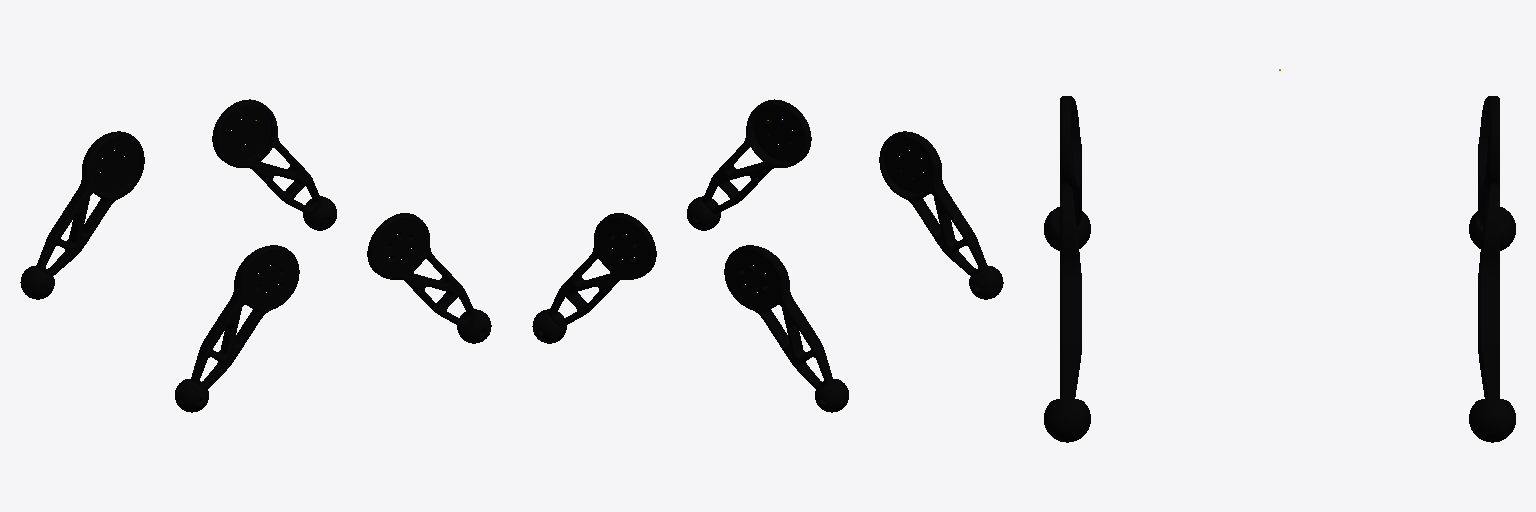
--- Facts derived from the render (not from the file) ---
Views: 3 orthographic renders of the robot side by side, from view 1: azimuth 30°, elevation 25°; view 2: azimuth 150°, elevation 25°; view 3: azimuth 270°, elevation 25°.
Robot: reddog — 19 links, 18 joints (12 revolute, 6 fixed); root link base; default pose: all joints at 0 but 8 set to mid-range because 0 is outside their limits (FR_thigh_joint = 0.835, FR_calf_joint = -1.51, FL_thigh_joint = 0.835, FL_calf_joint = -1.51, RR_thigh_joint = -0.835, RR_calf_joint = 1.51, +2 more).
Links seen in each view (by area): view 1: RL_calf, RR_calf, FL_calf, FR_calf, RL_foot, RR_foot, FL_foot, FR_foot; view 2: RR_calf, RL_calf, FR_calf, FL_calf, RR_foot, RL_foot, FL_foot, FR_foot; view 3: FR_calf, FL_calf, RL_calf, RR_calf, FR_foot, FL_foot, RL_foot, RR_foot.
Boxes of the visible links, x1=… form: RL_calf: x1=36, y1=131, x2=144, y2=276; RR_calf: x1=191, y1=245, x2=299, y2=389; FL_calf: x1=212, y1=99, x2=321, y2=214; FR_calf: x1=367, y1=213, x2=475, y2=327; RL_foot: x1=20, y1=266, x2=54, y2=299; RR_foot: x1=175, y1=379, x2=208, y2=412; FL_foot: x1=303, y1=196, x2=336, y2=230; FR_foot: x1=457, y1=309, x2=491, y2=343; RR_calf: x1=879, y1=131, x2=987, y2=276; RL_calf: x1=724, y1=245, x2=832, y2=389; FR_calf: x1=702, y1=99, x2=811, y2=214; FL_calf: x1=548, y1=213, x2=656, y2=327; RR_foot: x1=969, y1=266, x2=1003, y2=299; RL_foot: x1=815, y1=379, x2=848, y2=412; FL_foot: x1=532, y1=309, x2=566, y2=343; FR_foot: x1=687, y1=196, x2=720, y2=230; FR_calf: x1=1060, y1=183, x2=1081, y2=398; FL_calf: x1=1478, y1=183, x2=1499, y2=398; RL_calf: x1=1478, y1=96, x2=1499, y2=225; RR_calf: x1=1060, y1=96, x2=1081, y2=225; FR_foot: x1=1044, y1=398, x2=1090, y2=442; FL_foot: x1=1469, y1=398, x2=1515, y2=442; RL_foot: x1=1469, y1=207, x2=1515, y2=250; RR_foot: x1=1044, y1=207, x2=1090, y2=250.
Size in the robot's own frame: 0.335 by 0.3177 by 0.2051 metres.
8 mesh visuals loaded from 17 distinct referenced files (8 binary STL); not drawn: 9 (reference not matched to a file when rendering).

robot.urdf — reddog:
<?xml version="1.0" encoding="utf-8"?>
<!-- This URDF was automatically created by SolidWorks to URDF Exporter! Originally created by Stephen Brawner ([email redacted]) 
     Commit Version: 1.6.0-4-g7f85cfe  Build Version: 1.6.7995.38578
     For more information, please see http://wiki.ros.org/sw_urdf_exporter -->
<robot
  name="reddog">
  <ros2_control name="UnitreeSystem" type="system">
    <hardware>
      <plugin>hardware_unitree_mujoco/HardwareUnitree</plugin>
    </hardware>
    <joint name="FR_hip_joint">
      <command_interface name="position"/>
      <command_interface name="velocity"/>
      <command_interface name="effort"/>
      <command_interface name="kp"/>
      <command_interface name="kd"/>
      <state_interface name="position"/>
      <state_interface name="velocity"/>
      <state_interface name="effort"/>
    </joint>
    <joint name="FR_thigh_joint">
      <command_interface name="position"/>
      <command_interface name="velocity"/>
      <command_interface name="effort"/>
      <command_interface name="kp"/>
      <command_interface name="kd"/>
      <state_interface name="position"/>
      <state_interface name="velocity"/>
      <state_interface name="effort"/>
    </joint>
    <joint name="FR_calf_joint">
      <command_interface name="position"/>
      <command_interface name="velocity"/>
      <command_interface name="effort"/>
      <command_interface name="kp"/>
      <command_interface name="kd"/>
      <state_interface name="position"/>
      <state_interface name="velocity"/>
      <state_interface name="effort"/>
    </joint>
    <joint name="FL_hip_joint">
      <command_interface name="position"/>
      <command_interface name="velocity"/>
      <command_interface name="effort"/>
      <command_interface name="kp"/>
      <command_interface name="kd"/>
      <state_interface name="position"/>
      <state_interface name="velocity"/>
      <state_interface name="effort"/>
    </joint>
    <joint name="FL_thigh_joint">
      <command_interface name="position"/>
      <command_interface name="velocity"/>
      <command_interface name="effort"/>
      <command_interface name="kp"/>
      <command_interface name="kd"/>
      <state_interface name="position"/>
      <state_interface name="velocity"/>
      <state_interface name="effort"/>
    </joint>
    <joint name="FL_calf_joint">
      <command_interface name="position"/>
      <command_interface name="velocity"/>
      <command_interface name="effort"/>
      <command_interface name="kp"/>
      <command_interface name="kd"/>
      <state_interface name="position"/>
      <state_interface name="velocity"/>
      <state_interface name="effort"/>
    </joint>
    <joint name="RR_hip_joint">
      <command_interface name="position"/>
      <command_interface name="velocity"/>
      <command_interface name="effort"/>
      <command_interface name="kp"/>
      <command_interface name="kd"/>
      <state_interface name="position"/>
      <state_interface name="velocity"/>
      <state_interface name="effort"/>
    </joint>
    <joint name="RR_thigh_joint">
      <command_interface name="position"/>
      <command_interface name="velocity"/>
      <command_interface name="effort"/>
      <command_interface name="kp"/>
      <command_interface name="kd"/>
      <state_interface name="position"/>
      <state_interface name="velocity"/>
      <state_interface name="effort"/>
    </joint>
    <joint name="RR_calf_joint">
      <command_interface name="position"/>
      <command_interface name="velocity"/>
      <command_interface name="effort"/>
      <command_interface name="kp"/>
      <command_interface name="kd"/>
      <state_interface name="position"/>
      <state_interface name="velocity"/>
      <state_interface name="effort"/>
    </joint>
    <joint name="RL_hip_joint">
      <command_interface name="position"/>
      <command_interface name="velocity"/>
      <command_interface name="effort"/>
      <command_interface name="kp"/>
      <command_interface name="kd"/>
      <state_interface name="position"/>
      <state_interface name="velocity"/>
      <state_interface name="effort"/>
    </joint>
    <joint name="RL_thigh_joint">
      <command_interface name="position"/>
      <command_interface name="velocity"/>
      <command_interface name="effort"/>
      <command_interface name="kp"/>
      <command_interface name="kd"/>
      <state_interface name="position"/>
      <state_interface name="velocity"/>
      <state_interface name="effort"/>
    </joint>
    <joint name="RL_calf_joint">
      <command_interface name="position"/>
      <command_interface name="velocity"/>
      <command_interface name="effort"/>
      <command_interface name="kp"/>
      <command_interface name="kd"/>
      <state_interface name="position"/>
      <state_interface name="velocity"/>
      <state_interface name="effort"/>
    </joint>
    <sensor name="imu_sensor">
      <state_interface name="orientation.w"/>
      <state_interface name="orientation.x"/>
      <state_interface name="orientation.y"/>
      <state_interface name="orientation.z"/>
      <state_interface name="angular_velocity.x"/>
      <state_interface name="angular_velocity.y"/>
      <state_interface name="angular_velocity.z"/>
      <state_interface name="linear_acceleration.x"/>
      <state_interface name="linear_acceleration.y"/>
      <state_interface name="linear_acceleration.z"/>
    </sensor>
    <sensor name="foot_force">
      <state_interface name="FR"/>
      <state_interface name="FL"/>
      <state_interface name="RR"/>
      <state_interface name="RL"/>
    </sensor>
  </ros2_control>
  <link name="base">
    <visual>
      <origin rpy="0 0 0" xyz="0 0 0"/>
      <geometry>
        <box size="0.001 0.001 0.001"/>
      </geometry>
    </visual>
  </link>
  <joint name="floating_base" type="fixed">
    <origin rpy="0 0 0" xyz="0 0 0"/>
    <parent link="base"/>
    <child link="trunk"/>
  </joint>
  <link
    name="trunk">
    <inertial>
      <origin
        xyz="-0.000178 -0.000021 0.003449"
        rpy="0 0 0" />
      <mass
        value="2.190280" />
      <inertia
        ixx="0.006223"
        ixy="-0.000002"
        ixz="-0.000008"
        iyy="0.019491"
        iyz="-0.000002"
        izz="0.023871" />
    </inertial>
    <visual>
      <origin
        xyz="0 0 0"
        rpy="0 0 0" />
      <geometry>
        <mesh
          filename="package://reddog_description/meshes/base.STL" />
      </geometry>
      <material
        name="">
        <color
          rgba="1 0.02 0.02 0.8" />
      </material>
    </visual>
    <collision>
      <origin
        xyz="0 0 0"
        rpy="0 0 0" />
      <geometry>
        <mesh
          filename="package://reddog_description/meshes/base.STL" />
      </geometry>
    </collision>
  </link>
  <joint name="imu_joint" type="fixed">
    <parent link="trunk"/>
    <child link="imu_link"/>
    <origin rpy="0 0 0" xyz="0 0 0"/>
  </joint>
  <link name="imu_link">
    <inertial>
      <mass value="0.001"/>
      <origin rpy="0 0 0" xyz="0 0 0"/>
      <inertia ixx="0.0001" ixy="0" ixz="0" iyy="0.0001" iyz="0" izz="0.0001"/>
    </inertial>
    <visual>
      <origin rpy="0 0 0" xyz="0 0 0"/>
      <geometry>
        <box size="0.001 0.001 0.001"/>
      </geometry>
      <!-- <material name="red"/> -->
    </visual>
    <collision>
      <origin rpy="0 0 0" xyz="0 0 0"/>
      <geometry>
        <box size=".001 .001 .001"/>
      </geometry>
    </collision>
  </link>
  <link
    name="FR_hip">
    <inertial>
      <origin
        xyz="0.037499 -0.013932 -0.000001"
        rpy="0 0 0" />
      <mass
        value="0.324730" />
      <inertia
        ixx="0.000123"
        ixy="-0.000005"
        ixz="0.000000"
        iyy="0.000140"
        iyz="0.000000"
        izz="0.000130" />
    </inertial>
    <visual>
      <origin
        xyz="0 0 0"
        rpy="0 0 0" />
      <geometry>
        <mesh
          filename="package://reddog_description/meshes/FR_hip.STL" />
      </geometry>
      <material
        name="">
        <color
          rgba="0.05 0.05 0.05 1" />
      </material>
    </visual>
    <!-- <collision>
      <origin
        xyz="0 0 0"
        rpy="0 0 0" />
      <geometry>
        <mesh
          filename="package://reddog_description/meshes/FR_hip.STL" />
      </geometry>
    </collision> -->
  </link>
  <joint
    name="FR_hip_joint"
    type="revolute">
    <origin
      xyz="0.127999974999998 -0.055 0"
      rpy="0 0 0" />
    <parent
      link="base" />
    <child
      link="FR_hip" />
    <axis
      xyz="1 0 0" />
    <limit
      lower="-1.0472"
      upper="1.0472"
      effort="3.0"
      velocity="12.5" />
  </joint>
  <link
    name="FR_thigh">
    <inertial>
      <origin
        xyz="-0.000082 -0.027481 -0.125699"
        rpy="0 0 0" />
      <mass
        value="0.324730" />
      <inertia
        ixx="0.000254"
        ixy="-0.000001"
        ixz="0.000000"
        iyy="0.000267"
        iyz="0.000028"
        izz="0.000122" />
    </inertial>
    <visual>
      <origin
        xyz="0 0 0"
        rpy="0 0 0" />
      <geometry>
        <mesh
          filename="package://reddog_description/meshes/FR_thigh.STL" />
      </geometry>
      <material
        name="">
        <color
          rgba="0.05 0.05 0.05 1" />
      </material>
    </visual>
    <collision>
      <origin
        xyz="0 0 0"
        rpy="0 0 0" />
      <geometry>
        <mesh
          filename="package://reddog_description/meshes/FR_thigh.STL" />
      </geometry>
    </collision>
  </link>
  <joint
    name="FR_thigh_joint"
    type="revolute">
    <origin
      xyz="0.0385000250000002 -0.0374999999999999 0"
      rpy="0 0 0" />
    <parent
      link="FR_hip" />
    <child
      link="FR_thigh" />
    <axis
      xyz="0 1 0" />
    <limit
      lower="0.1"
      upper="1.57"
      effort="3.0"
      velocity="12.5" />
  </joint>
  <link
    name="FR_calf">
    <inertial>
      <origin
        xyz="-0.000098 -0.009599 -0.041140"
        rpy="0 0 0" />
      <mass
        value="0.037400" />
      <inertia
        ixx="0.000069"
        ixy="0.000000"
        ixz="0.000000"
        iyy="0.000076"
        iyz="-0.000002"
        izz="0.000008" />
    </inertial>
    <visual>
      <origin
        xyz="0 0 0"
        rpy="0 0 0" />
      <geometry>
        <mesh
          filename="package://reddog_description/meshes/FR_calf.STL" />
      </geometry>
      <material
        name="">
        <color
          rgba="0.05 0.05 0.05 1" />
      </material>
    </visual>
    <collision>
      <origin
        xyz="0 0 0"
        rpy="0 0 0" />
      <geometry>
        <mesh
          filename="package://reddog_description/meshes/FR_calf.STL" />
      </geometry>
    </collision>
  </link>
  <joint
    name="FR_calf_joint"
    type="revolute">
    <origin
      xyz="0 -0.0409852014855582 -0.130000000000001"
      rpy="0 0 0" />
    <parent
      link="FR_thigh" />
    <child
      link="FR_calf" />
    <axis
      xyz="0 1 0" />
    <limit
      lower="-2.7227"
      upper="-0.3"
      effort="3.0"
      velocity="12.5" />
  </joint>
  <link
    name="FR_foot">
    <inertial>
      <origin
        xyz="-0.000010 -0.009809 -0.001455"
        rpy="0 0 0" />
      <mass
        value="0.010190" />
      <inertia
        ixx="0.000001"
        ixy="0.000000"
        ixz="0.000000"
        iyy="0.000001"
        iyz="0.000000"
        izz="0.000001" />
    </inertial>
    <visual>
      <origin
        xyz="0 0 0"
        rpy="0 0 0" />
      <geometry>
        <mesh
          filename="package://reddog_description/meshes/FR_foot.STL" />
      </geometry>
      <material
        name="">
        <color
          rgba="0.05 0.05 0.05 1" />
      </material>
    </visual>
    <collision>
      <origin
        xyz="0 0 0"
        rpy="0 0 0" />
      <geometry>
        <mesh
          filename="package://reddog_description/meshes/FR_foot.STL" />
      </geometry>
    </collision>
  </link>
  <joint
    name="FR_foot_joint"
    type="fixed" dont_collapse="true">
    <origin
      xyz="0 0 -0.13"
      rpy="0 0 0" />
    <parent
      link="FR_calf" />
    <child
      link="FR_foot" />
    <axis
      xyz="0 1 0" />
  </joint>
  <transmission name="FR_hip_tran">
    <type>transmission_interface/SimpleTransmission</type>
    <joint name="FR_hip_joint">
      <hardwareInterface>hardware_interface/EffortJointInterface</hardwareInterface>
    </joint>
    <actuator name="FR_hip_motor">
      <hardwareInterface>hardware_interface/EffortJointInterface</hardwareInterface>
      <mechanicalReduction>1</mechanicalReduction>
    </actuator>
  </transmission>
  <transmission name="FR_thigh_tran">
    <type>transmission_interface/SimpleTransmission</type>
    <joint name="FR_thigh_joint">
      <hardwareInterface>hardware_interface/EffortJointInterface</hardwareInterface>
    </joint>
    <actuator name="FR_thigh_motor">
      <hardwareInterface>hardware_interface/EffortJointInterface</hardwareInterface>
      <mechanicalReduction>1</mechanicalReduction>
    </actuator>
  </transmission>
  <transmission name="FR_calf_tran">
    <type>transmission_interface/SimpleTransmission</type>
    <joint name="FR_calf_joint">
      <hardwareInterface>hardware_interface/EffortJointInterface</hardwareInterface>
    </joint>
    <actuator name="FR_calf_motor">
      <hardwareInterface>hardware_interface/EffortJointInterface</hardwareInterface>
      <mechanicalReduction>1</mechanicalReduction>
    </actuator>
  </transmission>
  <link
    name="FL_hip">
    <inertial>
      <origin
        xyz="0.037499 0.013932 -0.000001"
        rpy="0 0 0" />
      <mass
        value="0.324730" />
      <inertia
        ixx="0.000123"
        ixy="0.000005"
        ixz="0.000000"
        iyy="0.000140"
        iyz="0.000000"
        izz="0.000130" />
    </inertial>
    <visual>
      <origin
        xyz="0 0 0"
        rpy="0 0 0" />
      <geometry>
        <mesh
          filename="package://reddog_description/meshes/FL_hip.STL" />
      </geometry>
      <material
        name="">
        <color
          rgba="0.05 0.05 0.05 1" />
      </material>
    </visual>
    <!-- <collision>
      <origin
        xyz="0 0 0"
        rpy="0 0 0" />
      <geometry>
        <mesh
          filename="package://reddog_description/meshes/FL_hip.STL" />
      </geometry>
    </collision> -->
  </link>
  <joint
    name="FL_hip_joint"
    type="revolute">
    <origin
      xyz="0.127999974999998 0.055 0"
      rpy="0 0 0" />
    <parent
      link="base" />
    <child
      link="FL_hip" />
    <axis
      xyz="1 0 0" />
    <limit
      lower="-1.0472"
      upper="1.0472"
      effort="3.0"
      velocity="12.5" />
  </joint>
  <link
    name="FL_thigh">
    <inertial>
      <origin
        xyz="-0.000085 0.025358 -0.120119"
        rpy="0 0 0" />
      <mass
        value="0.361700" />
      <inertia
        ixx="0.000463"
        ixy="0.000001"
        ixz="0.000001"
        iyy="0.000469"
        iyz="-0.000065"
        izz="0.000146" />
    </inertial>
    <visual>
      <origin
        xyz="0 0 0"
        rpy="0 0 0" />
      <geometry>
        <mesh
          filename="package://reddog_description/meshes/FL_thigh.STL" />
      </geometry>
      <material
        name="">
        <color
          rgba="0.05 0.05 0.05 1" />
      </material>
    </visual>
    <collision>
      <origin
        xyz="0 0 0"
        rpy="0 0 0" />
      <geometry>
        <mesh
          filename="package://reddog_description/meshes/FL_thigh.STL" />
      </geometry>
    </collision>
  </link>
  <joint
    name="FL_thigh_joint"
    type="revolute">
    <origin
      xyz="0.038500025 0.0375 0"
      rpy="0 0 0" />
    <parent
      link="FL_hip" />
    <child
      link="FL_thigh" />
    <axis
      xyz="0 1 0" />
    <limit
      lower="0.1"
      upper="1.57"
      effort="3.0"
      velocity="12.5" />
  </joint>
  <link
    name="FL_calf">
    <inertial>
      <origin
        xyz="-0.000098 0.009600 -0.041141"
        rpy="0 0 0" />
      <mass
        value="0.037040" />
      <inertia
        ixx="0.000068"
        ixy="0.000000"
        ixz="0.000000"
        iyy="0.000076"
        iyz="0.000002"
        izz="0.000008" />
    </inertial>
    <visual>
      <origin
        xyz="0 0 0"
        rpy="0 0 0" />
      <geometry>
        <mesh
          filename="package://reddog_description/meshes/FL_calf.STL" />
      </geometry>
      <material
        name="">
        <color
          rgba="0.05 0.05 0.05 1" />
      </material>
    </visual>
    <collision>
      <origin
        xyz="0 0 0"
        rpy="0 0 0" />
      <geometry>
        <mesh
          filename="package://reddog_description/meshes/FL_calf.STL" />
      </geometry>
    </collision>
  </link>
  <joint
    name="FL_calf_joint"
    type="revolute">
    <origin
      xyz="0 0.0409852014855581 -0.130000000000001"
      rpy="0 0 0" />
    <parent
      link="FL_thigh" />
    <child
      link="FL_calf" />
    <axis
      xyz="0 1 0" />
    <limit
      lower="-2.7227"
      upper="-0.3"
      effort="3.0"
      velocity="12.5" />
  </joint>
  <link
    name="FL_foot">
    <inertial>
      <origin
        xyz="-0.000010 0.009809 -0.001455"
        rpy="0 0 0" />
      <mass
        value="0.010190" />
      <inertia
        ixx="0.000001"
        ixy="0.000000"
        ixz="0.000000"
        iyy="0.000001"
        iyz="0.000000"
        izz="0.000001" />
    </inertial>
    <visual>
      <origin
        xyz="0 0 0"
        rpy="0 0 0" />
      <geometry>
        <mesh
          filename="package://reddog_description/meshes/FL_foot.STL" />
      </geometry>
      <material
        name="">
        <color
          rgba="0.05 0.05 0.05 1" />
      </material>
    </visual>
    <collision>
      <origin
        xyz="0 0 0"
        rpy="0 0 0" />
      <geometry>
        <mesh
          filename="package://reddog_description/meshes/FL_foot.STL" />
      </geometry>
    </collision>
  </link>
  <joint
    name="FL_foot_joint"
    type="fixed" dont_collapse="true">
    <origin
      xyz="0 0 -0.13"
      rpy="0 0 0" />
    <parent
      link="FL_calf" />
    <child
      link="FL_foot" />
    <axis
      xyz="0 1 0" />
  </joint>
  <transmission name="FL_hip_tran">
    <type>transmission_interface/SimpleTransmission</type>
    <joint name="FL_hip_joint">
      <hardwareInterface>hardware_interface/EffortJointInterface</hardwareInterface>
    </joint>
    <actuator name="FL_hip_motor">
      <hardwareInterface>hardware_interface/EffortJointInterface</hardwareInterface>
      <mechanicalReduction>1</mechanicalReduction>
    </actuator>
  </transmission>
  <transmission name="FL_thigh_tran">
    <type>transmission_interface/SimpleTransmission</type>
    <joint name="FL_thigh_joint">
      <hardwareInterface>hardware_interface/EffortJointInterface</hardwareInterface>
    </joint>
    <actuator name="FL_thigh_motor">
      <hardwareInterface>hardware_interface/EffortJointInterface</hardwareInterface>
      <mechanicalReduction>1</mechanicalReduction>
    </actuator>
  </transmission>
  <transmission name="FL_calf_tran">
    <type>transmission_interface/SimpleTransmission</type>
    <joint name="FL_calf_joint">
      <hardwareInterface>hardware_interface/EffortJointInterface</hardwareInterface>
    </joint>
    <actuator name="FL_calf_motor">
      <hardwareInterface>hardware_interface/EffortJointInterface</hardwareInterface>
      <mechanicalReduction>1</mechanicalReduction>
    </actuator>
  </transmission>
  <link
    name="RR_hip">
    <inertial>
      <origin
        xyz="-0.037499 -0.013932 0.000001"
        rpy="0 0 0" />
      <mass
        value="0.324730" />
      <inertia
        ixx="0.000123"
        ixy="0.000005"
        ixz="0.000000"
        iyy="0.000140"
        iyz="0.000000"
        izz="0.000130" />
    </inertial>
    <visual>
      <origin
        xyz="0 0 0"
        rpy="0 0 0" />
      <geometry>
        <mesh
          filename="package://reddog_description/meshes/RR_hip.STL" />
      </geometry>
      <material
        name="">
        <color
          rgba="0.05 0.05 0.05 1" />
      </material>
    </visual>
    <!-- <collision>
      <origin
        xyz="0 0 0"
        rpy="0 0 0" />
      <geometry>
        <mesh
          filename="package://reddog_description/meshes/RR_hip.STL" />
      </geometry>
    </collision> -->
  </link>
  <joint
    name="RR_hip_joint"
    type="revolute">
    <origin
      xyz="-0.127999975000002 -0.055 0"
      rpy="0 0 0" />
    <parent
      link="base" />
    <child
      link="RR_hip" />
    <axis
      xyz="1 0 0" />
    <limit
      lower="-1.0472"
      upper="1.0472"
      effort="3.0"
      velocity="12.5" />
  </joint>
  <link
    name="RR_thigh">
    <inertial>
      <origin
        xyz="-0.000085 -0.025358 -0.120120"
        rpy="0 0 0" />
      <mass
        value="0.361700" />
      <inertia
        ixx="0.000463"
        ixy="-0.000001"
        ixz="0.000001"
        iyy="0.000469"
        iyz="0.000064"
        izz="0.000146" />
    </inertial>
    <visual>
      <origin
        xyz="0 0 0"
        rpy="0 0 0" />
      <geometry>
        <mesh
          filename="package://reddog_description/meshes/RR_thigh.STL" />
      </geometry>
      <material
        name="">
        <color
          rgba="0.05 0.05 0.05 1" />
      </material>
    </visual>
    <collision>
      <origin
        xyz="0 0 0"
        rpy="0 0 0" />
      <geometry>
        <mesh
          filename="package://reddog_description/meshes/RR_thigh.STL" />
      </geometry>
    </collision>
  </link>
  <joint
    name="RR_thigh_joint"
    type="revolute">
    <origin
      xyz="-0.0385000250000012 -0.0374999999999921 0"
      rpy="0 0 0" />
    <parent
      link="RR_hip" />
    <child
      link="RR_thigh" />
    <axis
      xyz="0 1 0" />
    <limit
      lower="-1.57"
      upper="-0.1"
      effort="3.0"
      velocity="12.5" />
  </joint>
  <link
    name="RR_calf">
    <inertial>
      <origin
        xyz="-0.000098 -0.009599 -0.041140"
        rpy="0 0 0" />
      <mass
        value="0.037400" />
      <inertia
        ixx="0.000069"
        ixy="0.000000"
        ixz="0.000000"
        iyy="0.000076"
        iyz="-0.000002"
        izz="0.000008" />
    </inertial>
    <visual>
      <origin
        xyz="0 0 0"
        rpy="0 0 0" />
      <geometry>
        <mesh
          filename="package://reddog_description/meshes/RR_calf.STL" />
      </geometry>
      <material
        name="">
        <color
          rgba="0.05 0.05 0.05 1" />
      </material>
    </visual>
    <collision>
      <origin
        xyz="0 0 0"
        rpy="0 0 0" />
      <geometry>
        <mesh
          filename="package://reddog_description/meshes/RR_calf.STL" />
      </geometry>
    </collision>
  </link>
  <joint
    name="RR_calf_joint"
    type="revolute">
    <origin
      xyz="0 -0.040985201485548 -0.130000000000005"
      rpy="0 0 0" />
    <parent
      link="RR_thigh" />
    <child
      link="RR_calf" />
    <axis
      xyz="0 1 0" />
    <limit
      lower="0.3"
      upper="2.7227"
      effort="3.0"
      velocity="12.5" />
  </joint>
  <link
    name="RR_foot">
    <inertial>
      <origin
        xyz="-0.000010 -0.009809 -0.001455"
        rpy="0 0 0" />
      <mass
        value="0.010190" />
      <inertia
        ixx="0.000001"
        ixy="0.000000"
        ixz="0.000000"
        iyy="0.000001"
        iyz="0.000000"
        izz="0.000001" />
    </inertial>
    <visual>
      <origin
        xyz="0 0 0"
        rpy="0 0 0" />
      <geometry>
        <mesh
          filename="package://reddog_description/meshes/RR_foot.STL" />
      </geometry>
      <material
        name="">
        <color
          rgba="0.05 0.05 0.05 1" />
      </material>
    </visual>
    <collision>
      <origin
        xyz="0 0 0"
        rpy="0 0 0" />
      <geometry>
        <mesh
          filename="package://reddog_description/meshes/RR_foot.STL" />
      </geometry>
    </collision>
  </link>
  <joint
    name="RR_foot_joint"
    type="fixed" dont_collapse="true">
    <origin
      xyz="0 0 -0.130000000000004"
      rpy="0 0 0" />
    <parent
      link="RR_calf" />
    <child
      link="RR_foot" />
    <axis
      xyz="0 1 0" />
  </joint>
  <transmission name="RR_hip_tran">
    <type>transmission_interface/SimpleTransmission</type>
    <joint name="RR_hip_joint">
      <hardwareInterface>hardware_interface/EffortJointInterface</hardwareInterface>
    </joint>
    <actuator name="RR_hip_motor">
      <hardwareInterface>hardware_interface/EffortJointInterface</hardwareInterface>
      <mechanicalReduction>1</mechanicalReduction>
    </actuator>
  </transmission>
  <transmission name="RR_thigh_tran">
    <type>transmission_interface/SimpleTransmission</type>
    <joint name="RR_thigh_joint">
      <hardwareInterface>hardware_interface/EffortJointInterface</hardwareInterface>
    </joint>
    <actuator name="RR_thigh_motor">
      <hardwareInterface>hardware_interface/EffortJointInterface</hardwareInterface>
      <mechanicalReduction>1</mechanicalReduction>
    </actuator>
  </transmission>
  <transmission name="RR_calf_tran">
    <type>transmission_interface/SimpleTransmission</type>
    <joint name="RR_calf_joint">
      <hardwareInterface>hardware_interface/EffortJointInterface</hardwareInterface>
    </joint>
    <actuator name="RR_calf_motor">
      <hardwareInterface>hardware_interface/EffortJointInterface</hardwareInterface>
      <mechanicalReduction>1</mechanicalReduction>
    </actuator>
  </transmission>
  <link
    name="RL_hip">
    <inertial>
      <origin
        xyz="-0.037499 0.013932 0.000001"
        rpy="0 0 0" />
      <mass
        value="0.324730" />
      <inertia
        ixx="0.000123"
        ixy="-0.000005"
        ixz="0.000000"
        iyy="0.000140"
        iyz="0.000000"
        izz="0.000130" />
    </inertial>
    <visual>
      <origin
        xyz="0 0 0"
        rpy="0 0 0" />
      <geometry>
        <mesh
          filename="package://reddog_description/meshes/RL_hip.STL" />
      </geometry>
      <material
        name="">
        <color
          rgba="0.05 0.05 0.05 1" />
      </material>
    </visual>
    <!-- <collision>
      <origin
        xyz="0 0 0"
        rpy="0 0 0" />
      <geometry>
        <mesh
          filename="package://reddog_description/meshes/RL_hip.STL" />
      </geometry>
    </collision> -->
  </link>
  <joint
    name="RL_hip_joint"
    type="revolute">
    <origin
      xyz="-0.127999974999999 0.054999999999999 0"
      rpy="0 0 0" />
    <parent
      link="base" />
    <child
      link="RL_hip" />
    <axis
      xyz="1 0 0" />
    <limit
      lower="-1.0472"
      upper="1.0472"
      effort="3.0"
      velocity="12.5" />
  </joint>
  <link
    name="RL_thigh">
    <inertial>
      <origin
        xyz="-0.000085 0.025358 -0.120119"
        rpy="0 0 0" />
      <mass
        value="0.361700" />
      <inertia
        ixx="0.000463"
        ixy="0.000001"
        ixz="0.000001"
        iyy="0.000469"
        iyz="-0.000065"
        izz="0.000146" />
    </inertial>
    <visual>
      <origin
        xyz="0 0 0"
        rpy="0 0 0" />
      <geometry>
        <mesh
          filename="package://reddog_description/meshes/RL_thigh.STL" />
      </geometry>
      <material
        name="">
        <color
          rgba="0.05 0.05 0.05 1" />
      </material>
    </visual>
    <collision>
      <origin
        xyz="0 0 0"
        rpy="0 0 0" />
      <geometry>
        <mesh
          filename="package://reddog_description/meshes/RL_thigh.STL" />
      </geometry>
    </collision>
  </link>
  <joint
    name="RL_thigh_joint"
    type="revolute">
    <origin
      xyz="-0.0385000249999999 0.0374999999999952 0"
      rpy="0 0 0" />
    <parent
      link="RL_hip" />
    <child
      link="RL_thigh" />
    <axis
      xyz="0 1 0" />
    <limit
      lower="-1.57"
      upper="-0.1"
      effort="3.0"
      velocity="12.5" />
  </joint>
  <link
    name="RL_calf">
    <inertial>
      <origin
        xyz="-0.000098 0.009600 -0.041141"
        rpy="0 0 0" />
      <mass
        value="0.037400" />
      <inertia
        ixx="0.000069"
        ixy="0.000000"
        ixz="0.000000"
        iyy="0.000076"
        iyz="0.000002"
        izz="0.000008" />
    </inertial>
    <visual>
      <origin
        xyz="0 0 0"
        rpy="0 0 0" />
      <geometry>
        <mesh
          filename="package://reddog_description/meshes/RL_calf.STL" />
      </geometry>
      <material
        name="">
        <color
          rgba="0.05 0.05 0.05 1" />
      </material>
    </visual>
    <collision>
      <origin
        xyz="0 0 0"
        rpy="0 0 0" />
      <geometry>
        <mesh
          filename="package://reddog_description/meshes/RL_calf.STL" />
      </geometry>
    </collision>
  </link>
  <joint
    name="RL_calf_joint"
    type="revolute">
    <origin
      xyz="0 0.0409852014855523 -0.130000000000005"
      rpy="0 0 0" />
    <parent
      link="RL_thigh" />
    <child
      link="RL_calf" />
    <axis
      xyz="0 1 0" />
    <limit
      lower="0.3"
      upper="2.7227"
      effort="3.0"
      velocity="12.5" />
  </joint>
  <link
    name="RL_foot">
    <inertial>
      <origin
        xyz="-0.000010 0.009809 -0.001455"
        rpy="0 0 0" />
      <mass
        value="0.010190" />
      <inertia
        ixx="0.000001"
        ixy="0.000000"
        ixz="0.000000"
        iyy="0.000001"
        iyz="0.000000"
        izz="0.000001" />
    </inertial>
    <visual>
      <origin
        xyz="0 0 0"
        rpy="0 0 0" />
      <geometry>
        <mesh
          filename="package://reddog_description/meshes/RL_foot.STL" />
      </geometry>
      <material
        name="">
        <color
          rgba="0.05 0.05 0.05 1" />
      </material>
    </visual>
    <collision>
      <origin
        xyz="0 0 0"
        rpy="0 0 0" />
      <geometry>
        <mesh
          filename="package://reddog_description/meshes/RL_foot.STL" />
      </geometry>
    </collision>
  </link>
  <joint
    name="RL_foot_joint"
    type="fixed" dont_collapse="true">
    <origin
      xyz="0 0 -0.130000000000004"
      rpy="0 0 0" />
    <parent
      link="RL_calf" />
    <child
      link="RL_foot" />
    <axis
      xyz="0 1 0" />
  </joint>
  <transmission name="RL_hip_tran">
    <type>transmission_interface/SimpleTransmission</type>
    <joint name="RL_hip_joint">
      <hardwareInterface>hardware_interface/EffortJointInterface</hardwareInterface>
    </joint>
    <actuator name="RL_hip_motor">
      <hardwareInterface>hardware_interface/EffortJointInterface</hardwareInterface>
      <mechanicalReduction>1</mechanicalReduction>
    </actuator>
  </transmission>
  <transmission name="RL_thigh_tran">
    <type>transmission_interface/SimpleTransmission</type>
    <joint name="RL_thigh_joint">
      <hardwareInterface>hardware_interface/EffortJointInterface</hardwareInterface>
    </joint>
    <actuator name="RL_thigh_motor">
      <hardwareInterface>hardware_interface/EffortJointInterface</hardwareInterface>
      <mechanicalReduction>1</mechanicalReduction>
    </actuator>
  </transmission>
  <transmission name="RL_calf_tran">
    <type>transmission_interface/SimpleTransmission</type>
    <joint name="RL_calf_joint">
      <hardwareInterface>hardware_interface/EffortJointInterface</hardwareInterface>
    </joint>
    <actuator name="RL_calf_motor">
      <hardwareInterface>hardware_interface/EffortJointInterface</hardwareInterface>
      <mechanicalReduction>1</mechanicalReduction>
    </actuator>
  </transmission>
</robot>
